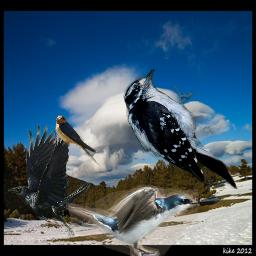Crow: (8, 120, 90, 238)
Swallow: (66, 185, 198, 256), (55, 115, 102, 168)
Woodpecker: (122, 69, 239, 189)
